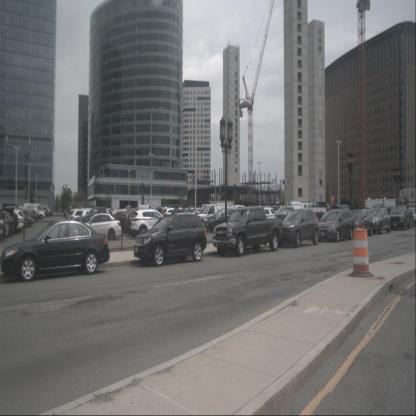movable_object-trafficcone: (348, 225, 374, 277)
vehicle-car: (1, 220, 110, 282), (134, 214, 206, 266), (277, 209, 320, 248), (71, 212, 122, 240), (130, 209, 175, 239), (316, 209, 354, 242), (196, 204, 236, 232), (344, 209, 374, 238), (206, 208, 242, 232), (74, 207, 107, 228), (365, 208, 391, 234), (0, 209, 24, 232), (114, 211, 140, 231), (250, 208, 276, 226), (277, 209, 302, 226), (68, 209, 94, 225), (0, 211, 15, 235), (9, 212, 32, 227), (23, 204, 46, 218), (64, 204, 86, 218), (171, 208, 193, 221), (18, 209, 37, 222), (162, 208, 180, 220), (403, 210, 415, 228), (27, 208, 45, 220), (406, 207, 415, 226), (36, 207, 52, 217), (299, 203, 313, 214)
vehicle-truck: (212, 206, 283, 257), (387, 205, 412, 231)
